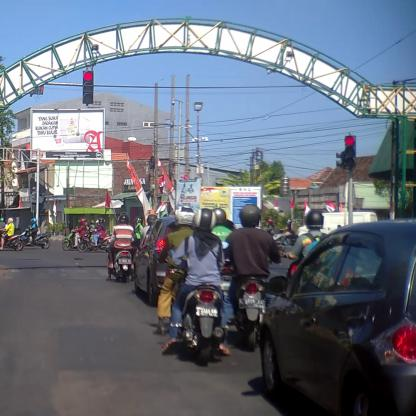red: (343, 135, 356, 171), (84, 72, 95, 105)
